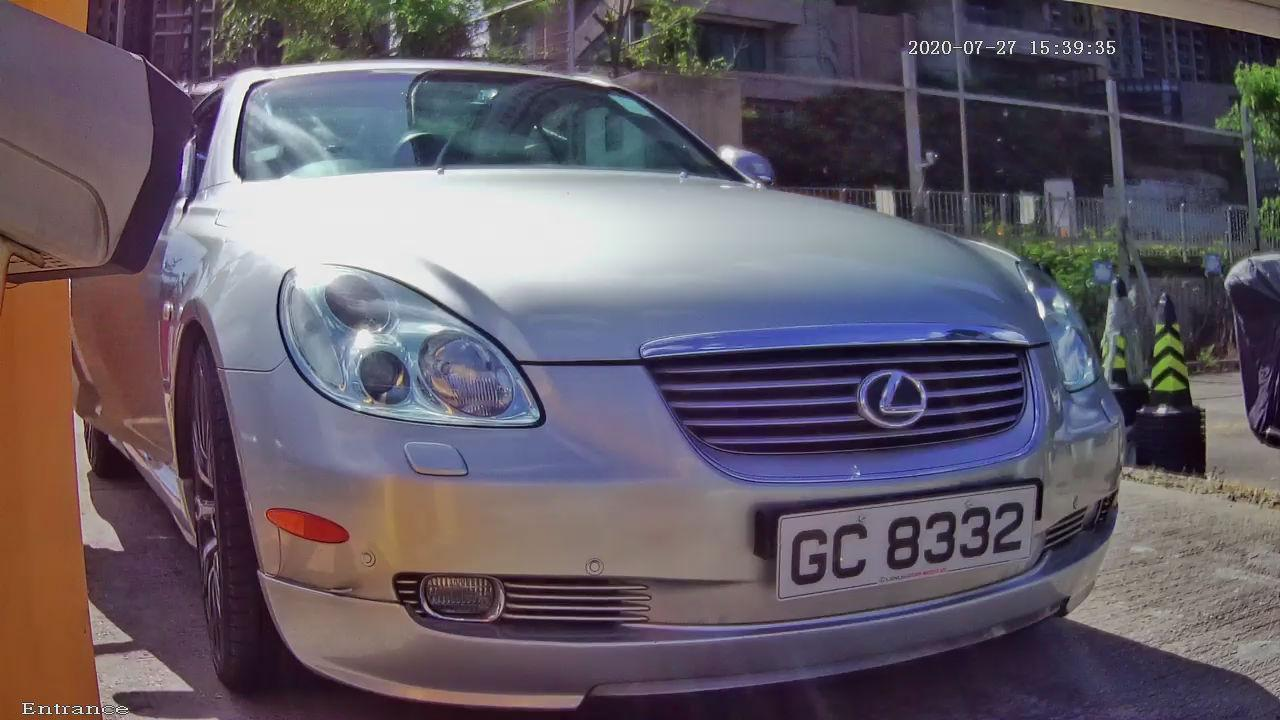privatecar: (46, 10, 1201, 692)
